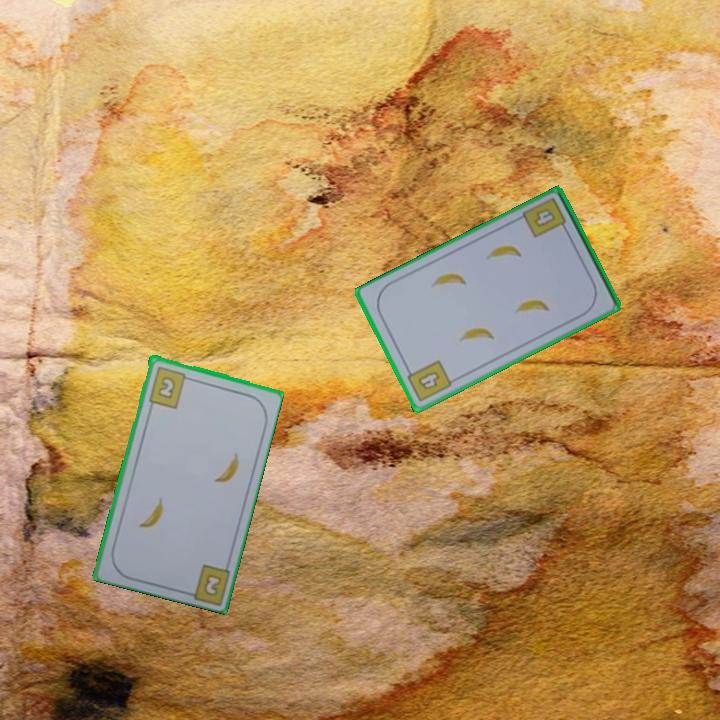2b: (145, 363, 194, 410), (200, 570, 224, 599)
4b: (402, 357, 455, 405), (519, 194, 571, 241)
